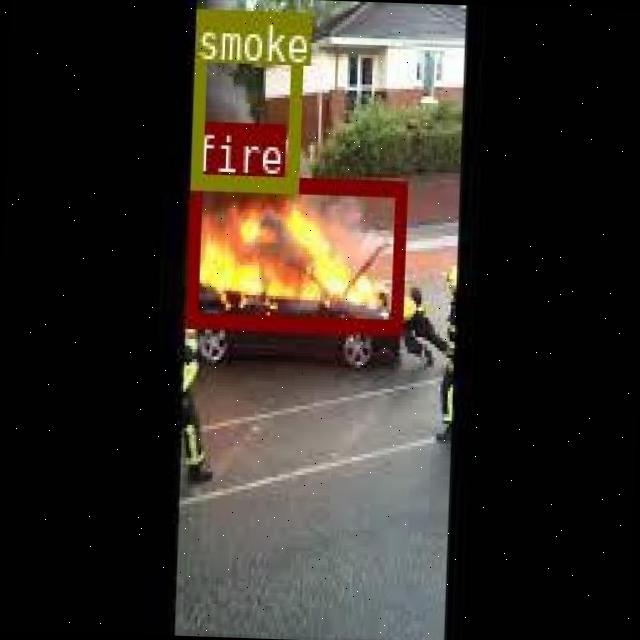fire: (183, 173, 404, 329)
smoke: (188, 6, 300, 189)
